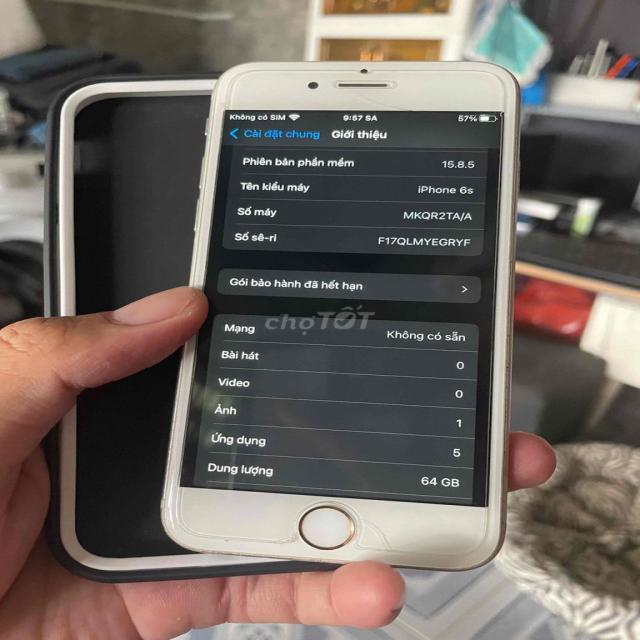gen_6: (163, 57, 556, 580)
screen_defect: (356, 504, 416, 562)
